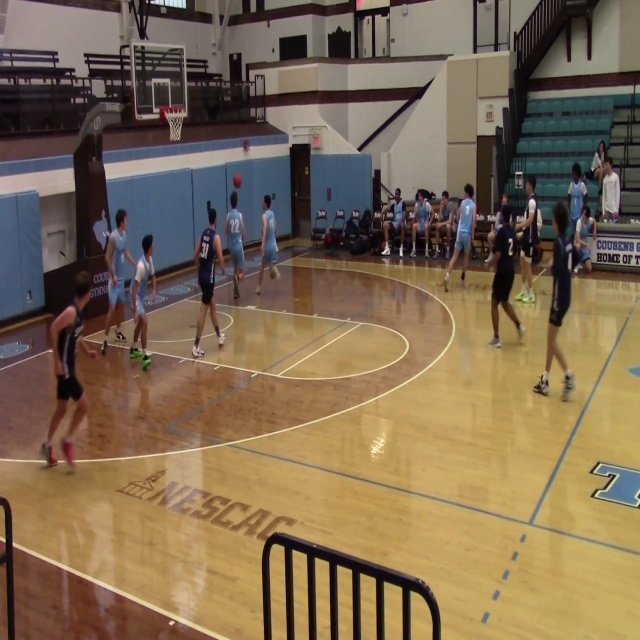Basketball: (232, 173, 242, 188), (243, 140, 250, 151)
